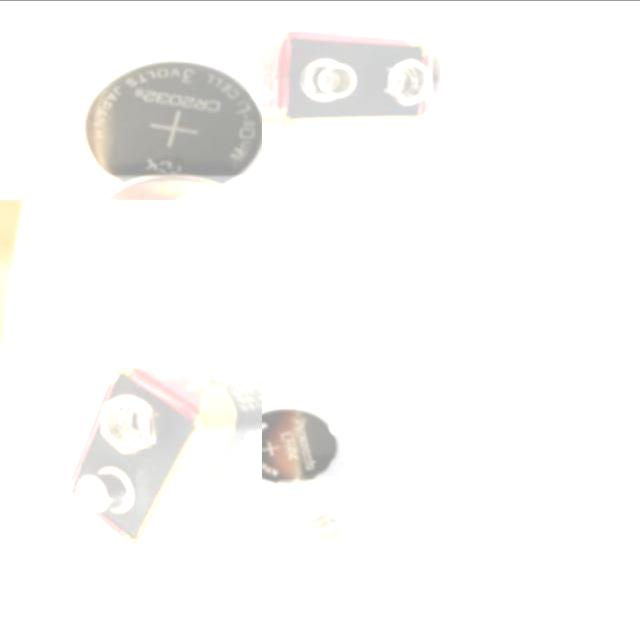9V: (64, 356, 262, 549), (262, 29, 432, 127)
